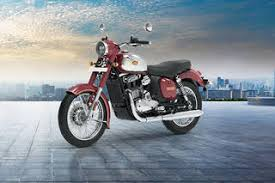motorcycle: (56, 20, 209, 149)
